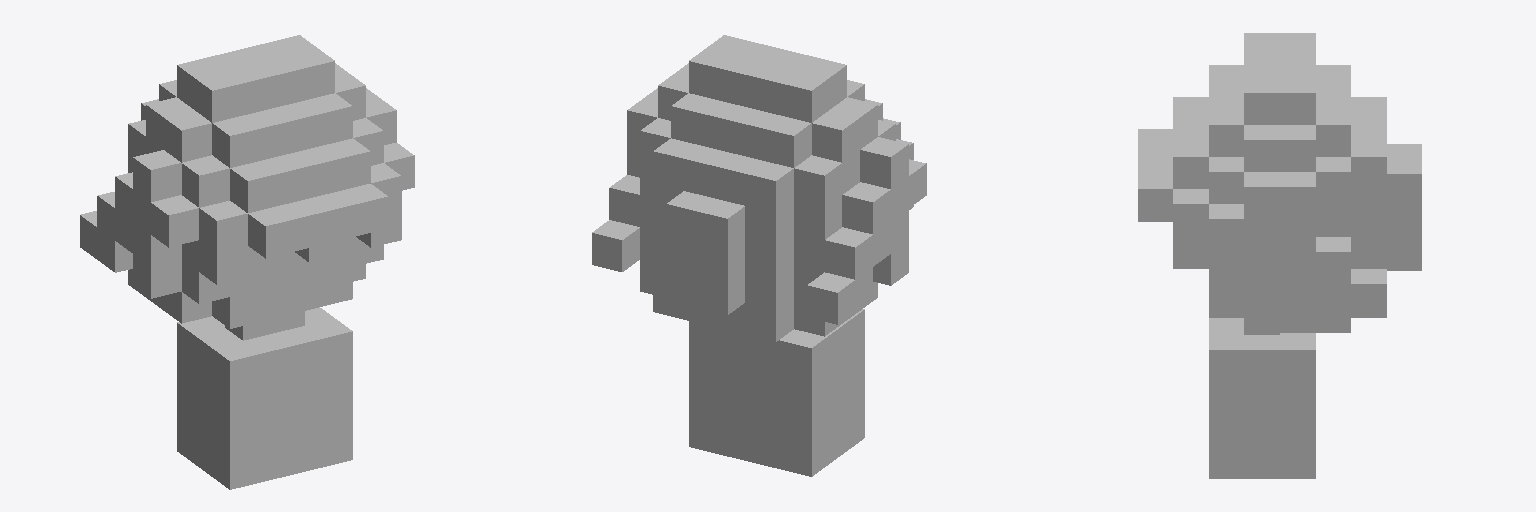
The model's file is Main Character body.obj.
3 views of the same model, side by side, from view 1: azimuth 30°, elevation 25°; view 2: azimuth 150°, elevation 25°; view 3: azimuth 270°, elevation 25° (orthographic).
Parts seen in each view (by area): view 1: object 1; view 2: object 1; view 3: object 1.
Part boxes in pixels (left/top/right/bottom): object 1: left=80, top=35, right=414, bottom=489; object 1: left=592, top=35, right=926, bottom=476; object 1: left=1138, top=33, right=1421, bottom=478.
Bounding box in the file's own units: 0.8 × 1.2 × 0.8.